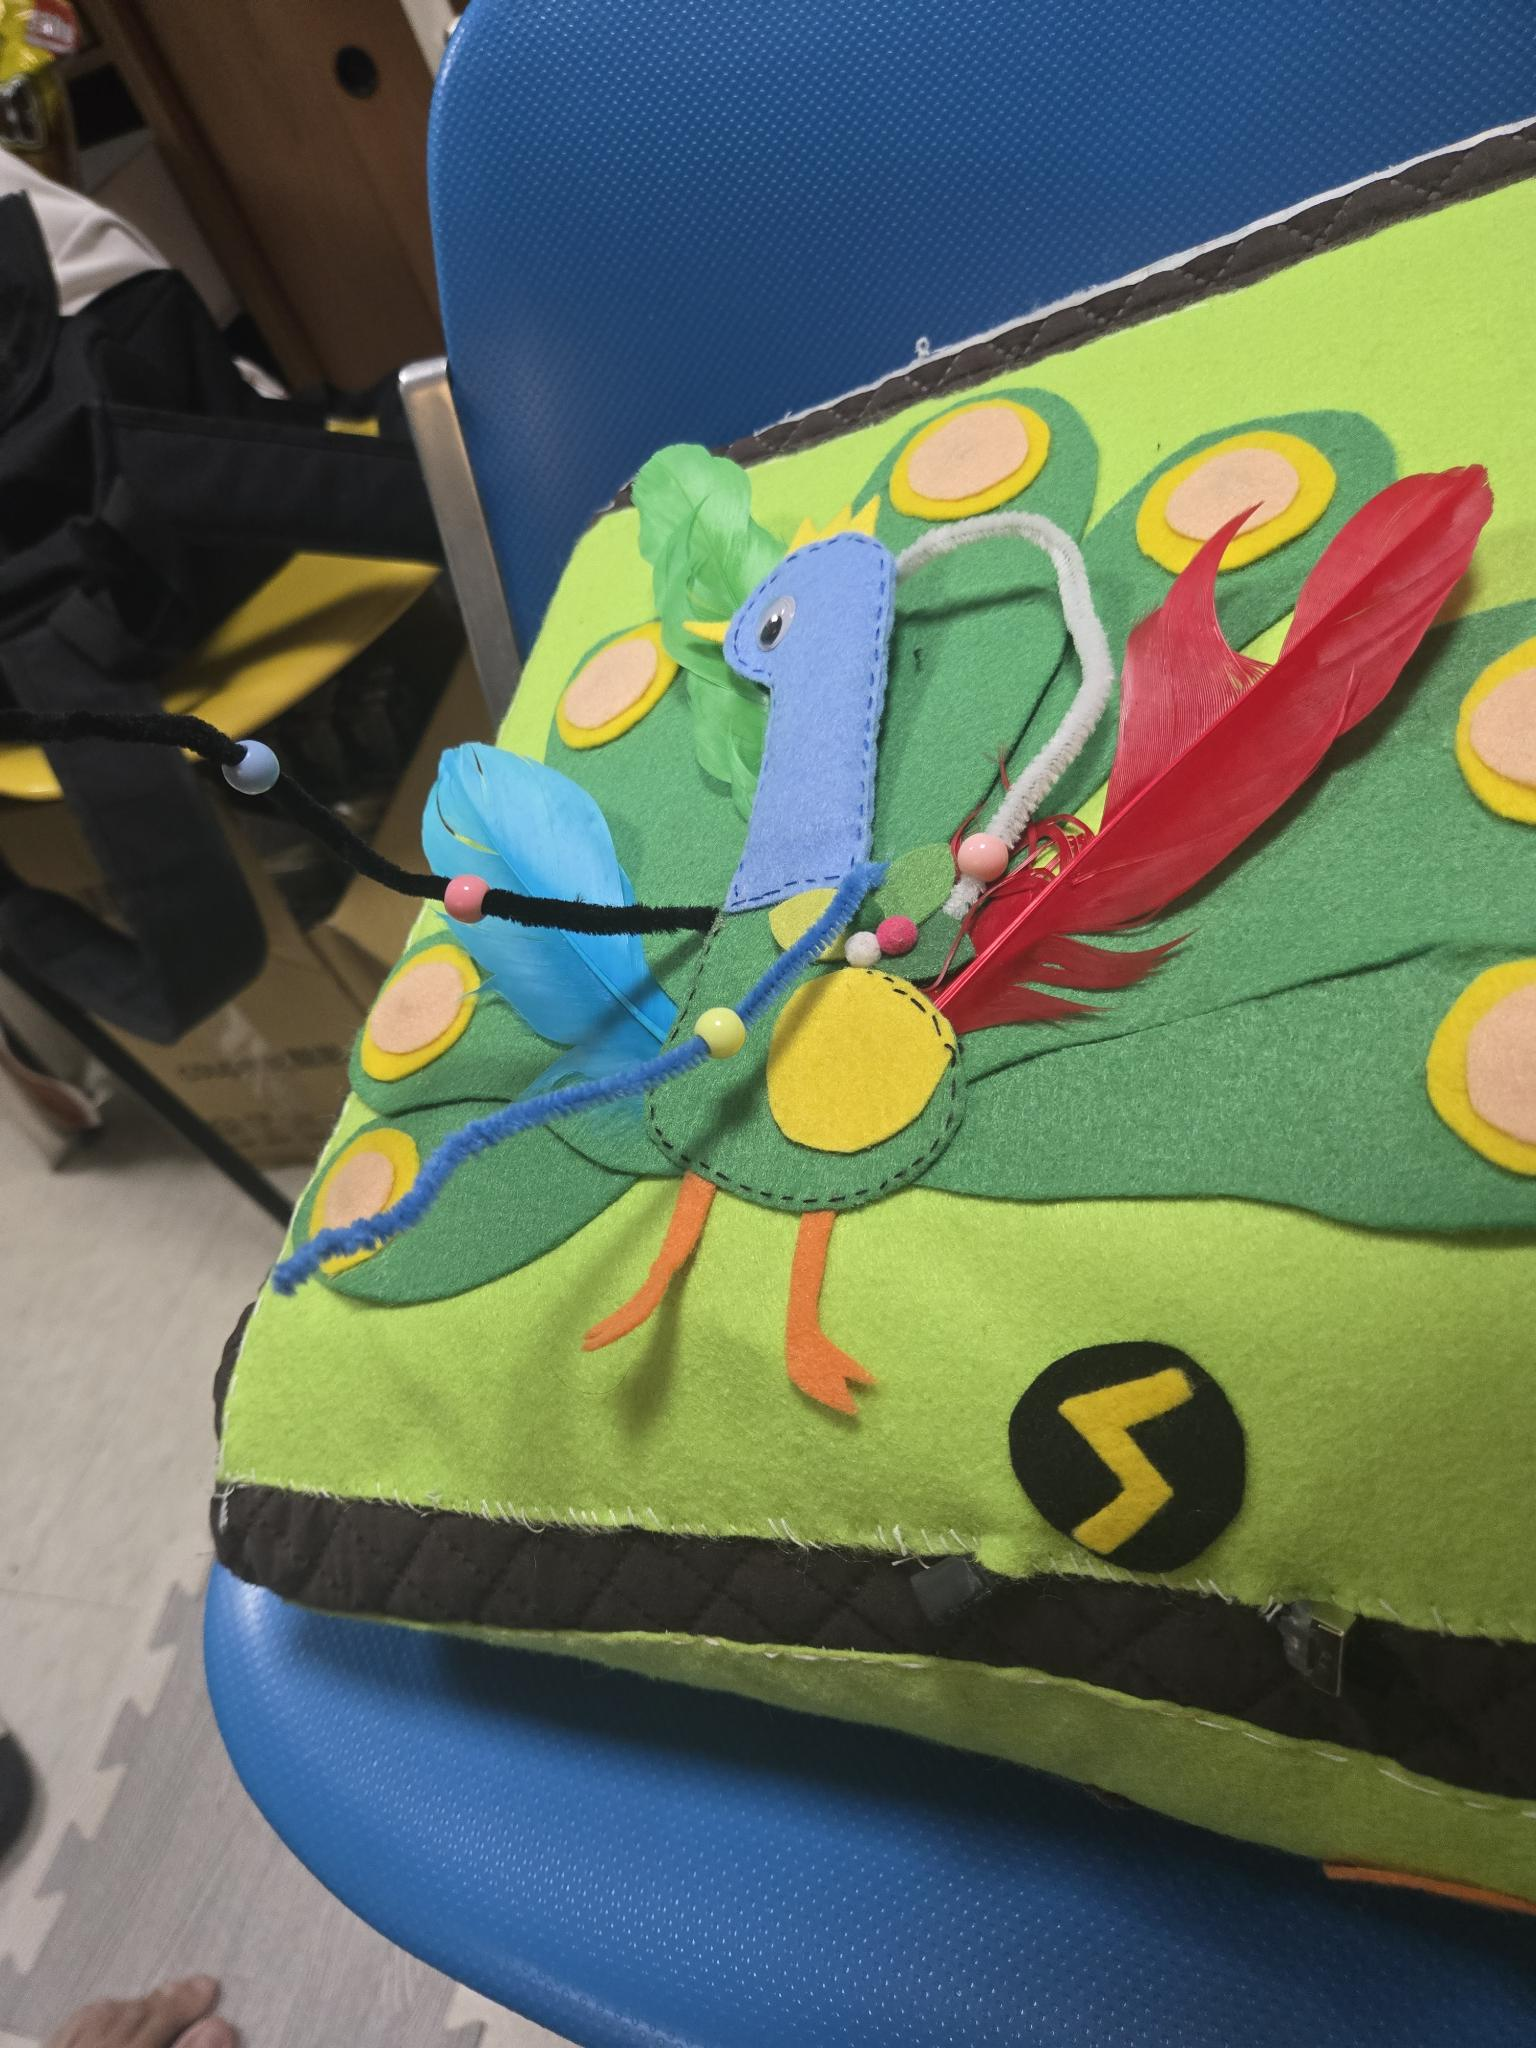bead: (200, 722, 305, 821), (676, 985, 755, 1084), (436, 856, 507, 932), (942, 816, 1013, 890)
